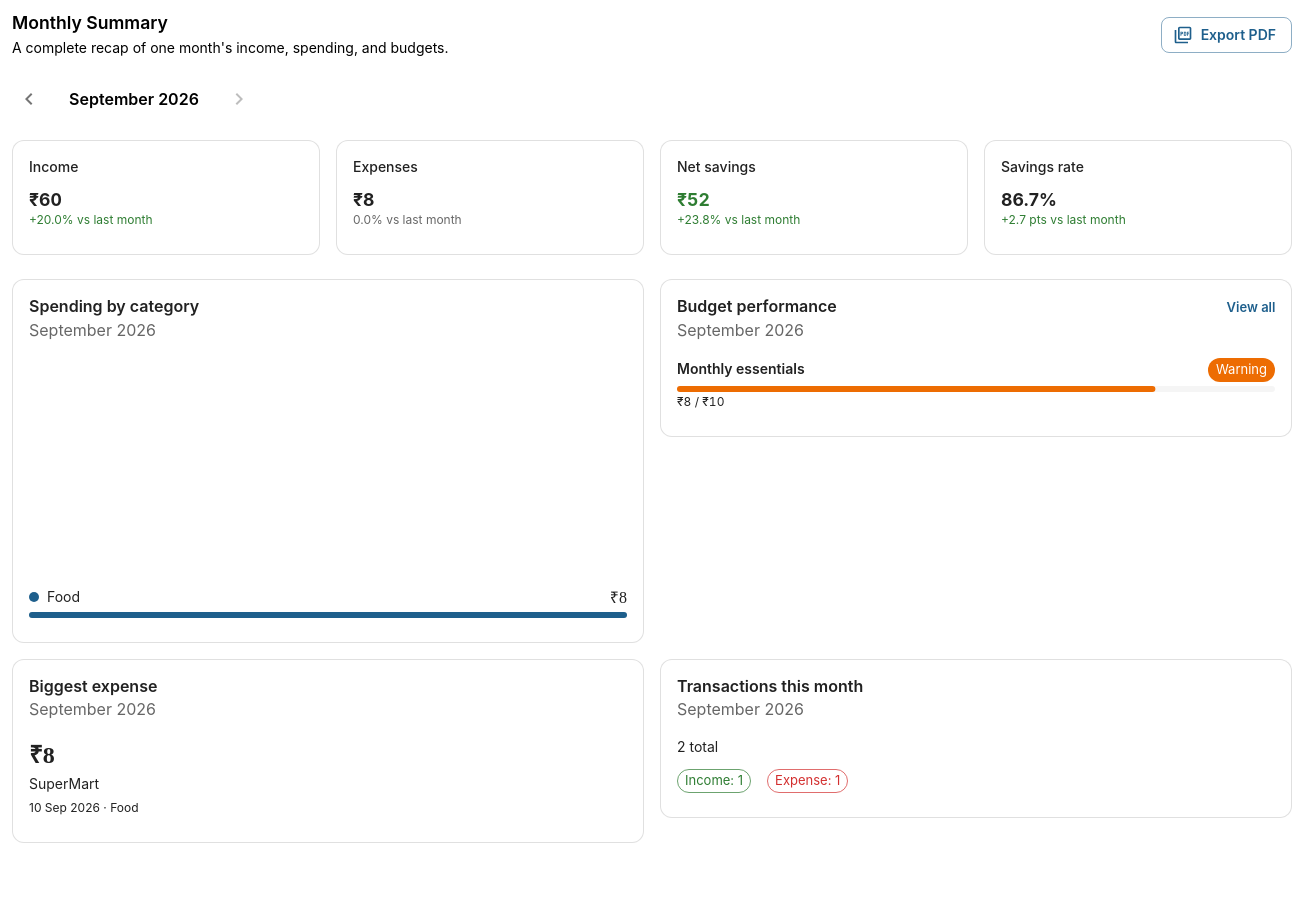
Test: MonthlySummaryPage › navigates to the previous month and disables "Next month" at the current month
Check: the button named "Next month" is disabled, box [222,82,256,116]
What coordinates should you click on to do the following:
click the button named "Previous month"
I would click on:
 (29, 99)
Its box is [12,82,46,116].
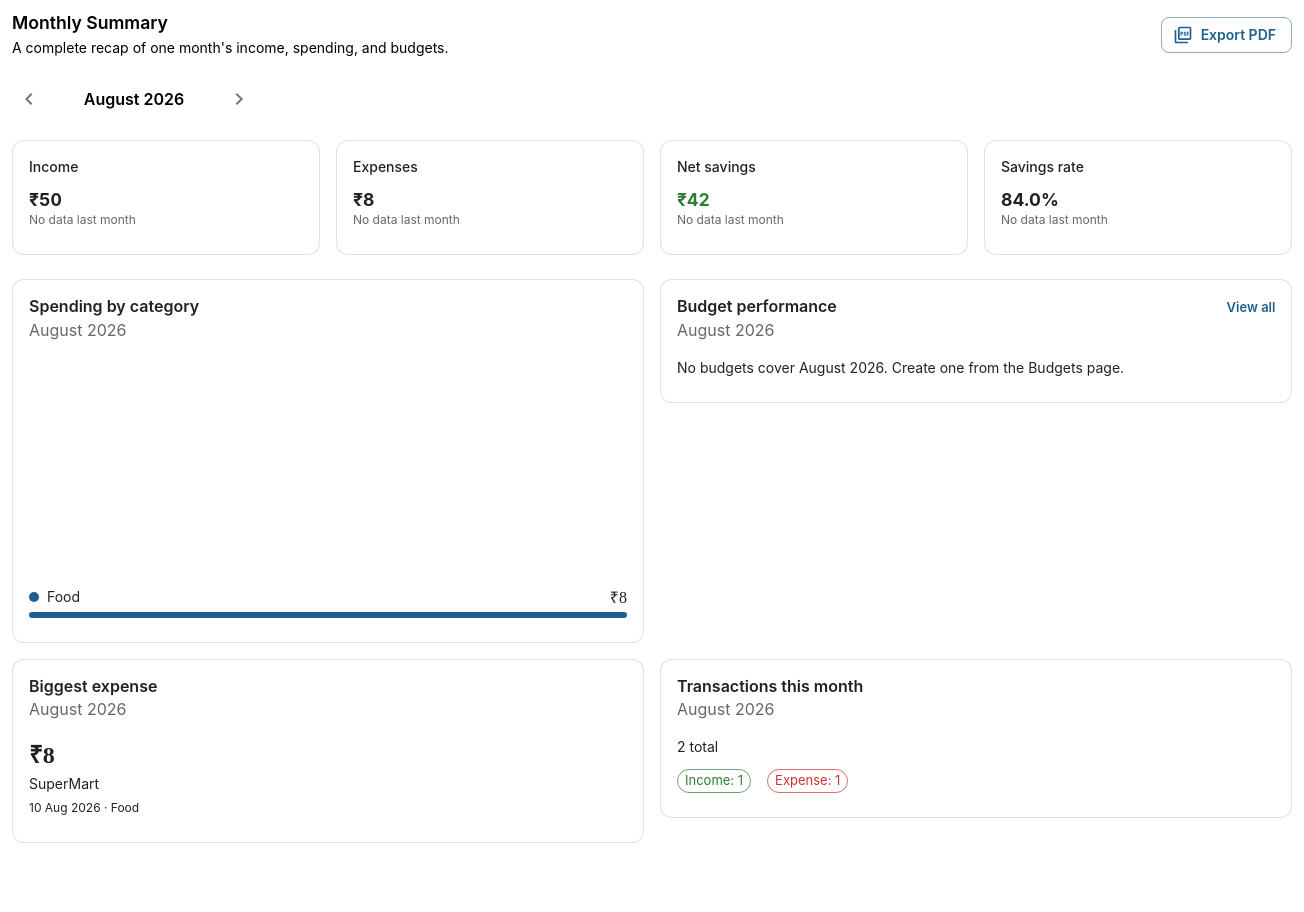
Check: the button named "Next month" is enabled, box [222,82,256,116]
